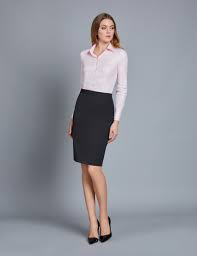F_tailored skirt: (67, 87, 120, 170)
